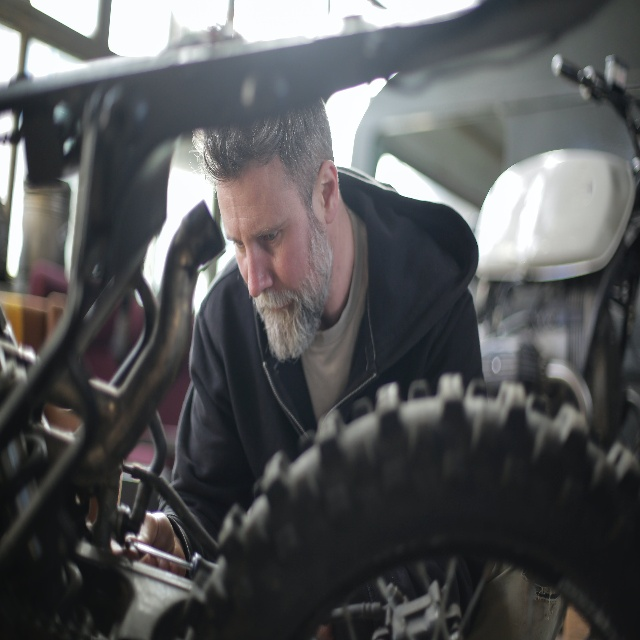Sin_guantes: (136, 511, 188, 574)
